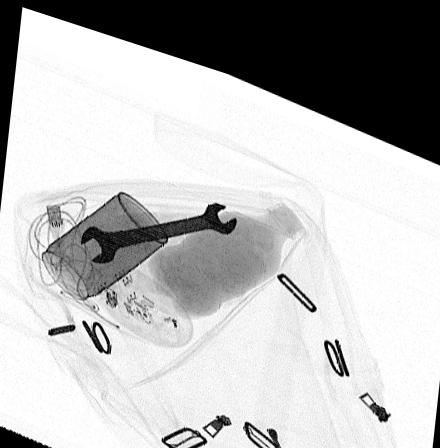Wrench: (79, 185, 238, 259)
